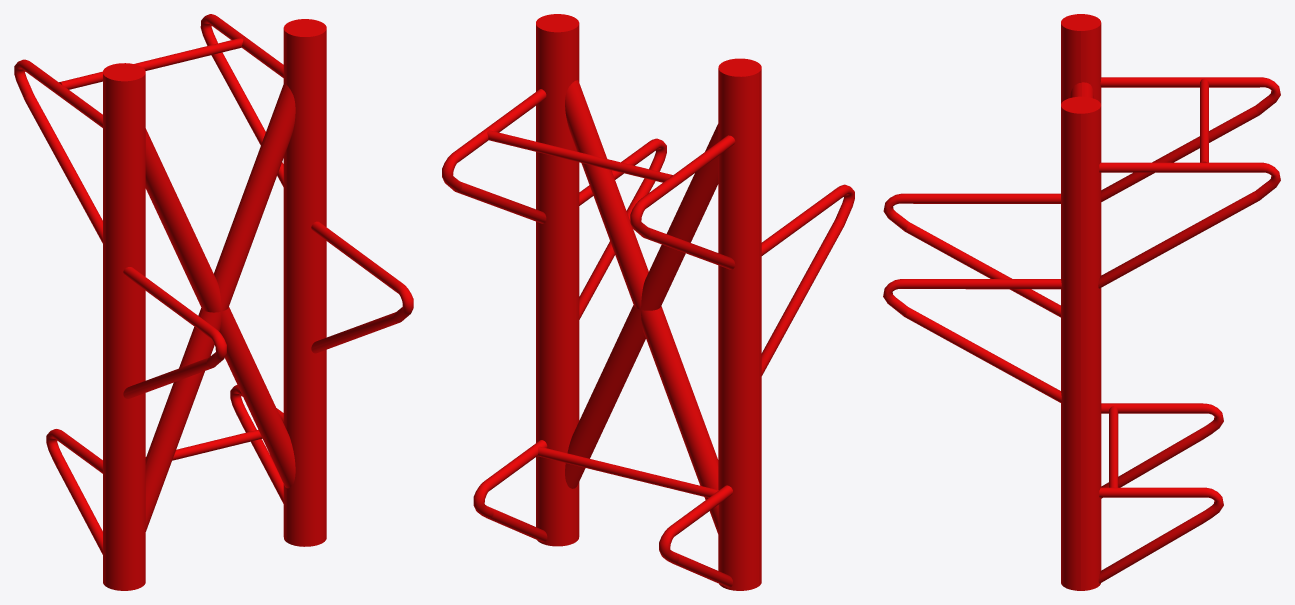
Rendered from MAQUINA FONDOS.fbx.
3 views of the same model, side by side, from view 1: azimuth 30°, elevation 25°; view 2: azimuth 150°, elevation 25°; view 3: azimuth 270°, elevation 25° (orthographic). The views are drawn at different scales.
Visible parts, largest first — view 1: MAQUINA FONDOS; view 2: MAQUINA FONDOS; view 3: MAQUINA FONDOS.
Boxes of the visible parts, left/top/right/bottom form: MAQUINA FONDOS: left=14, top=14, right=413, bottom=590; MAQUINA FONDOS: left=442, top=14, right=854, bottom=590; MAQUINA FONDOS: left=883, top=14, right=1280, bottom=590.
Size of the model in its own units: 249 by 557 by 421.
